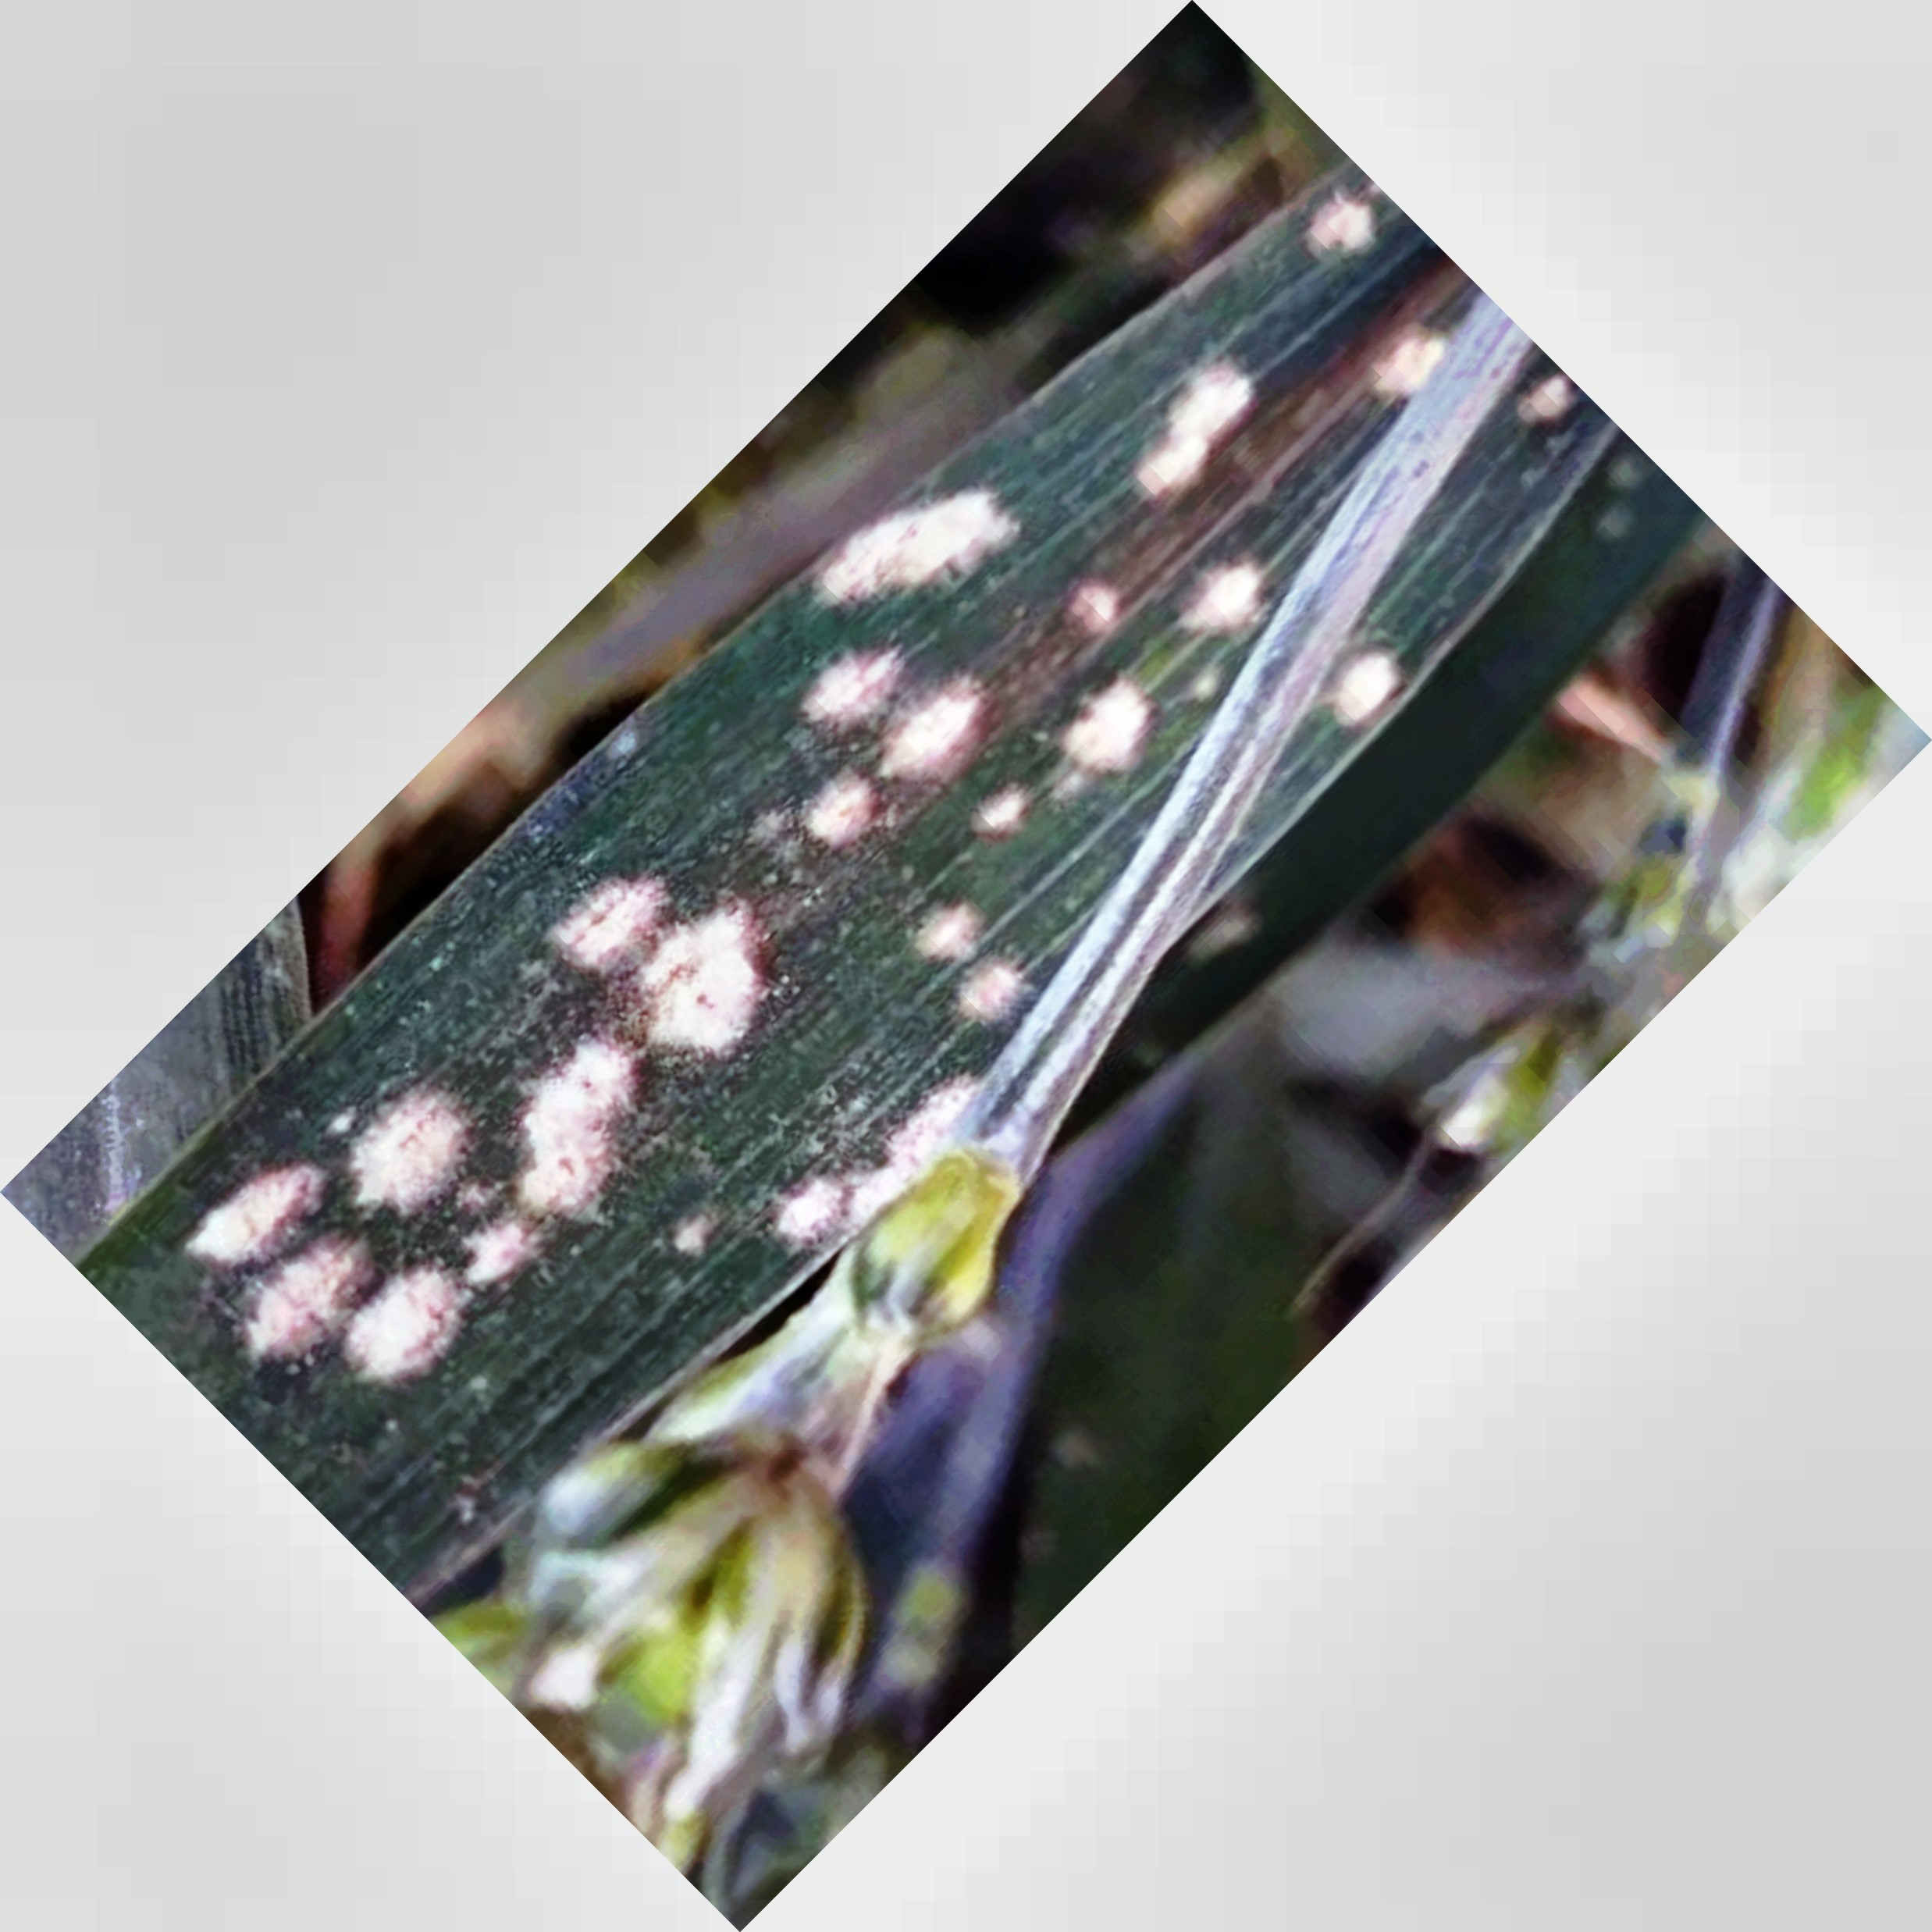Powdery Mildew: (159, 249, 1513, 1442)
